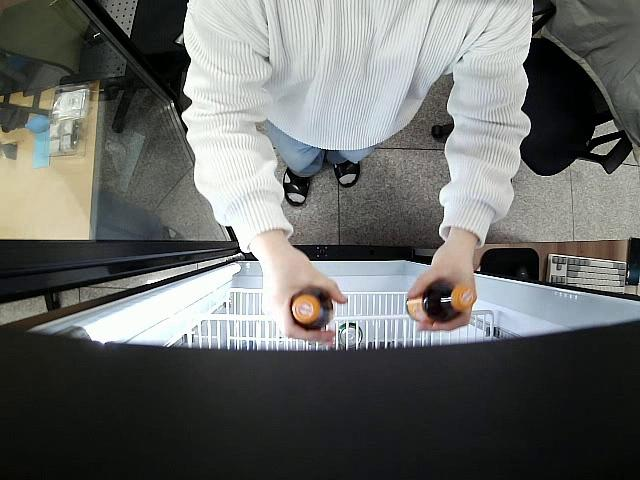00_hand: (261, 251, 347, 342), (407, 249, 477, 331)
17_vita500: (405, 276, 477, 325), (289, 286, 337, 333)
